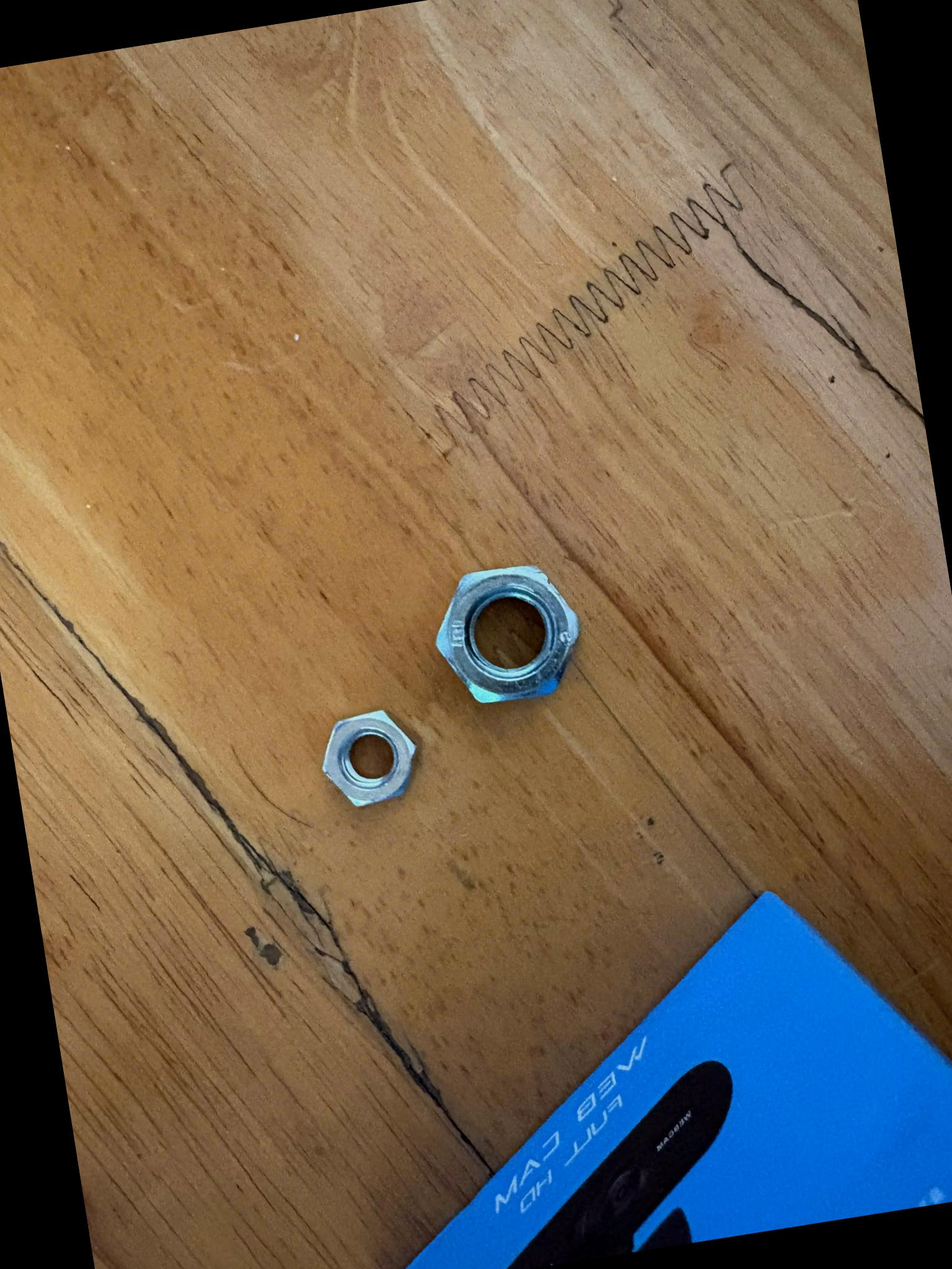nut: (416, 538, 607, 744), (302, 700, 428, 824)
